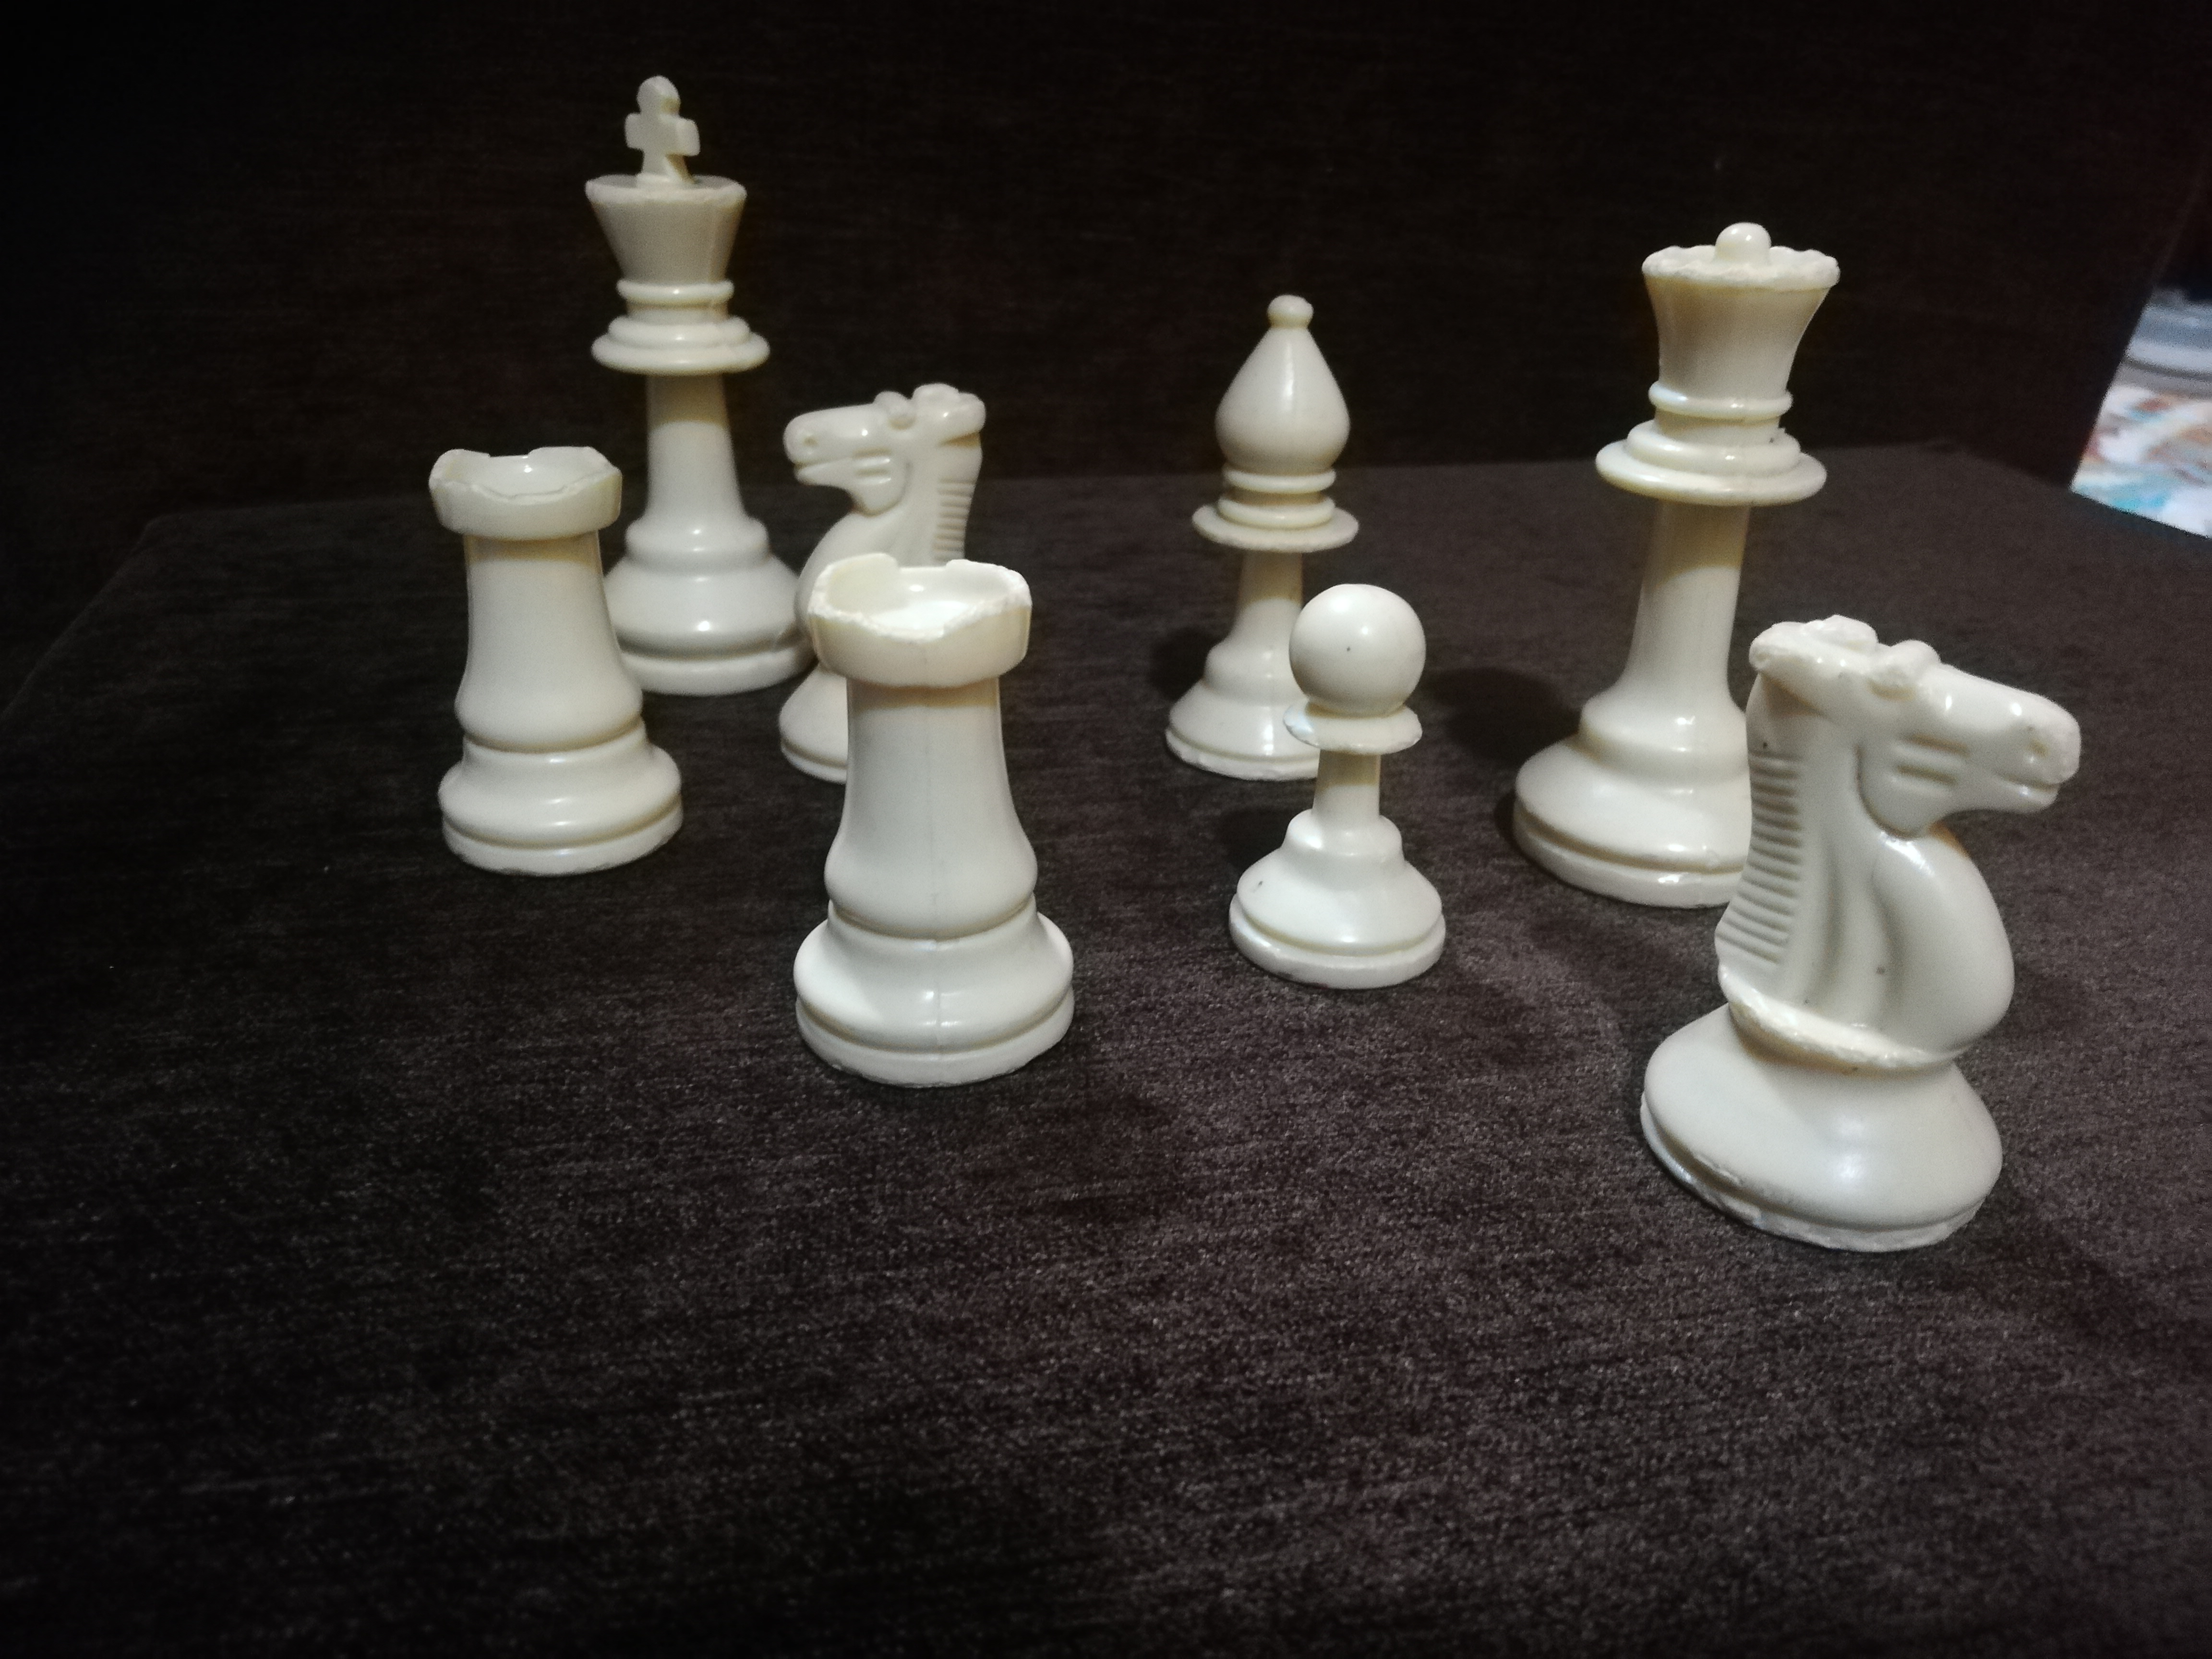Bishop: (1166, 294, 1382, 770)
King: (570, 68, 808, 696)
Knight: (1636, 596, 2068, 1263), (772, 385, 1030, 540)
Pawn: (1226, 586, 1469, 1020)
Queen: (1531, 216, 1803, 879)
Rook: (781, 541, 1082, 1094), (406, 426, 712, 884)
